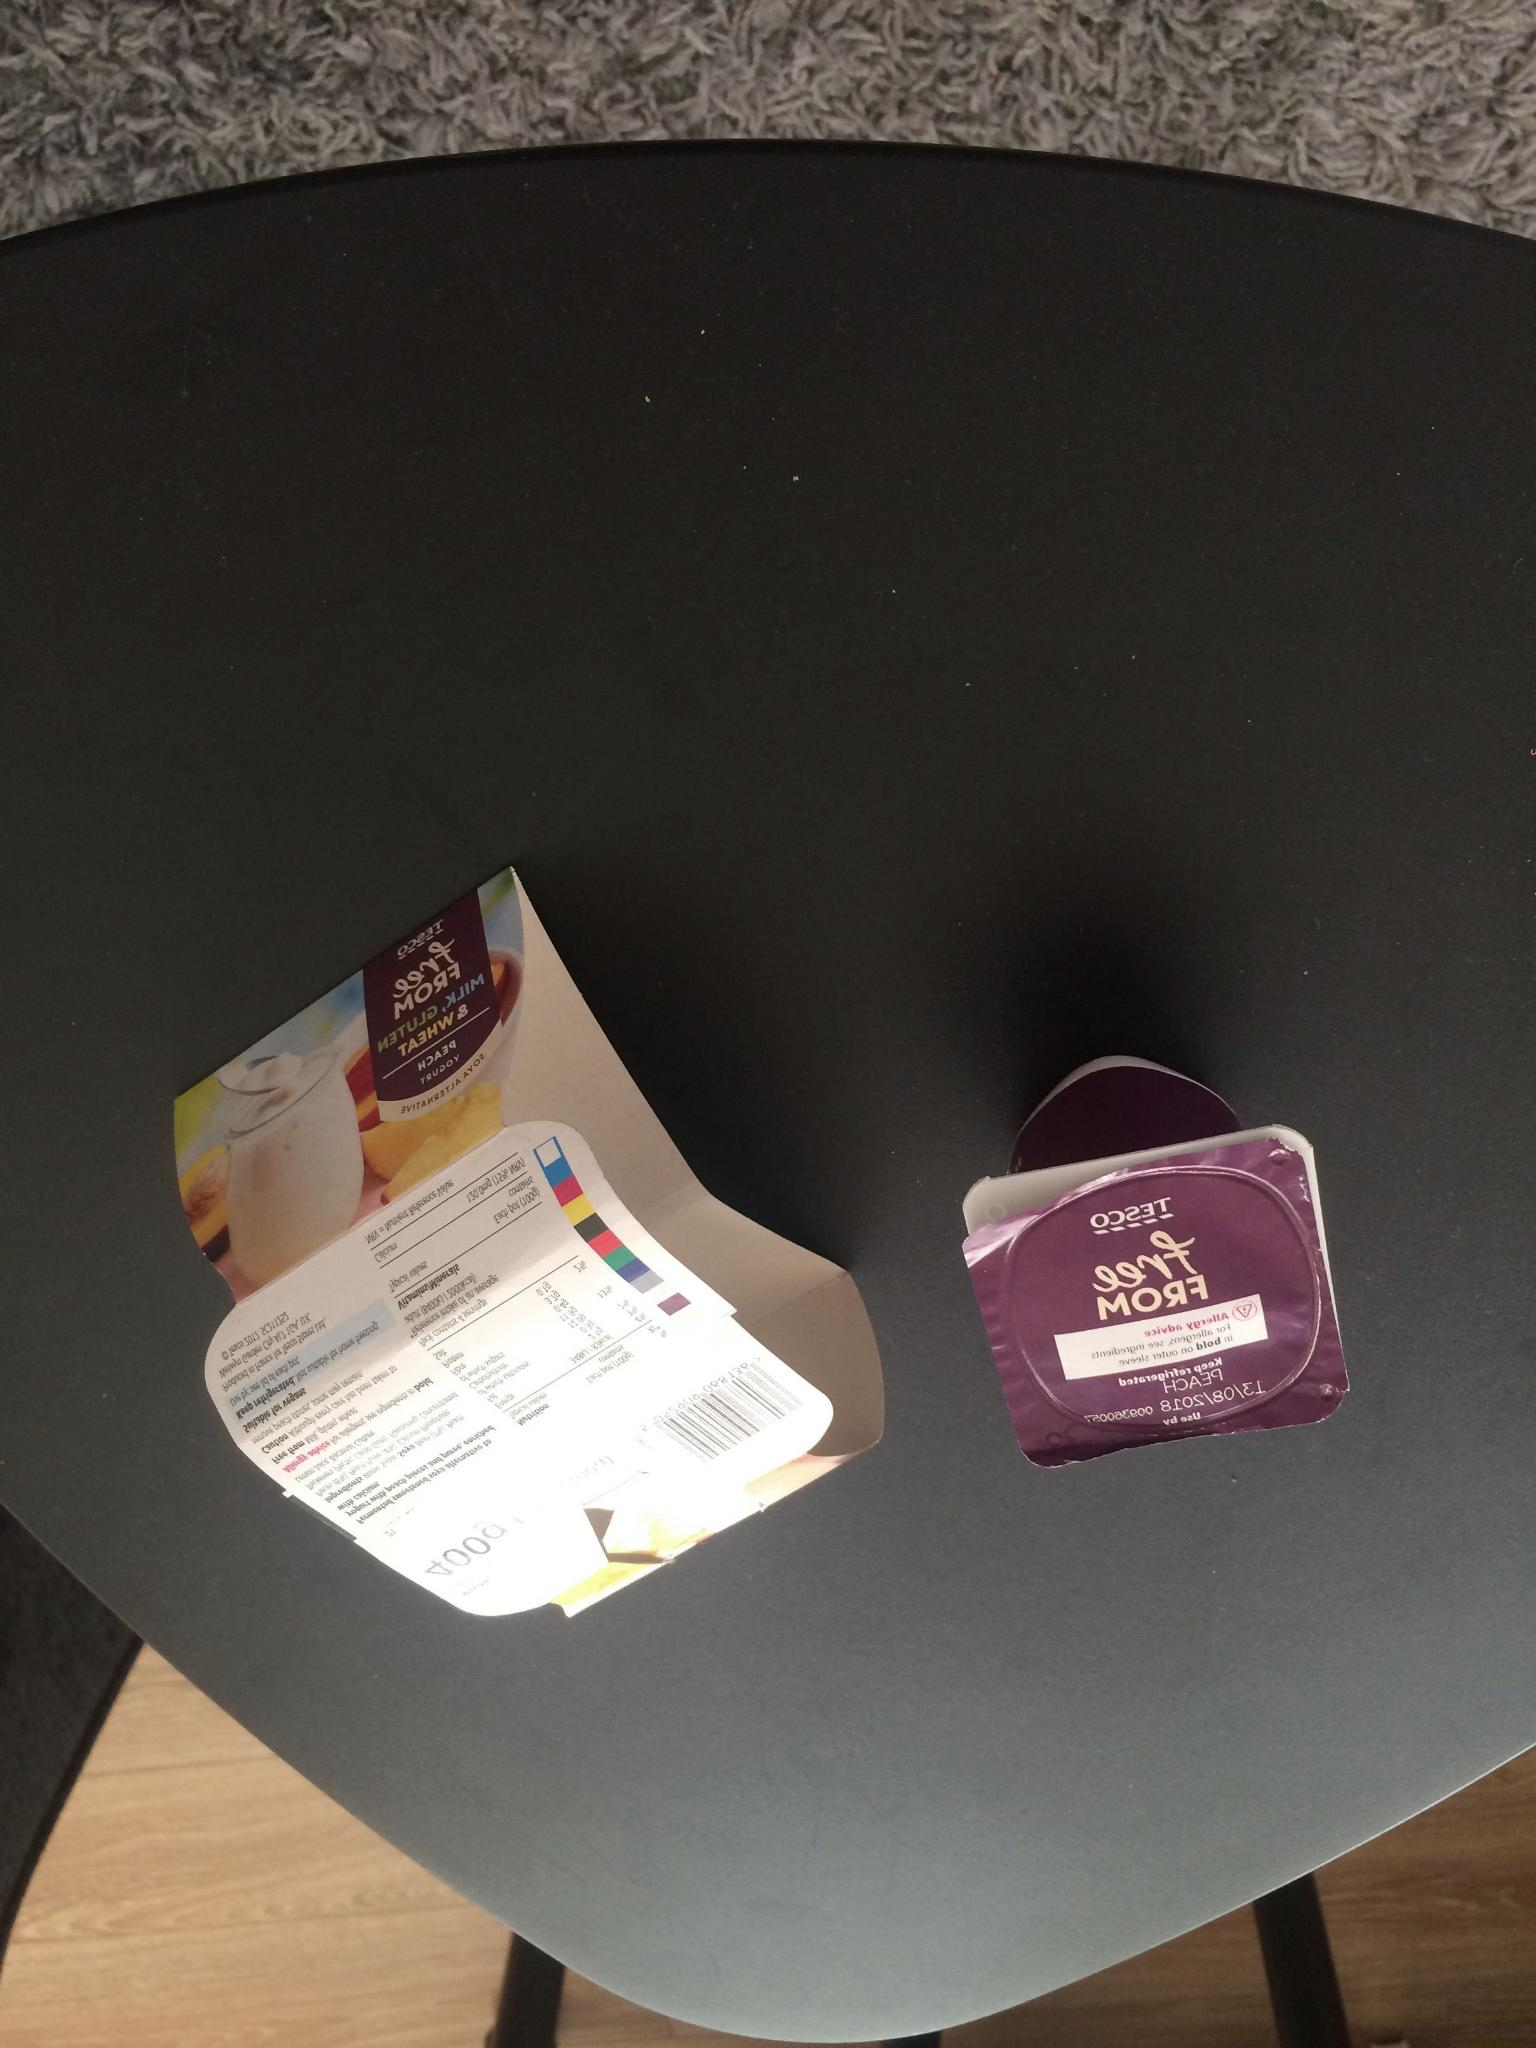Plastic: (945, 1026, 1378, 1484)
Trash: (131, 840, 907, 1656)
